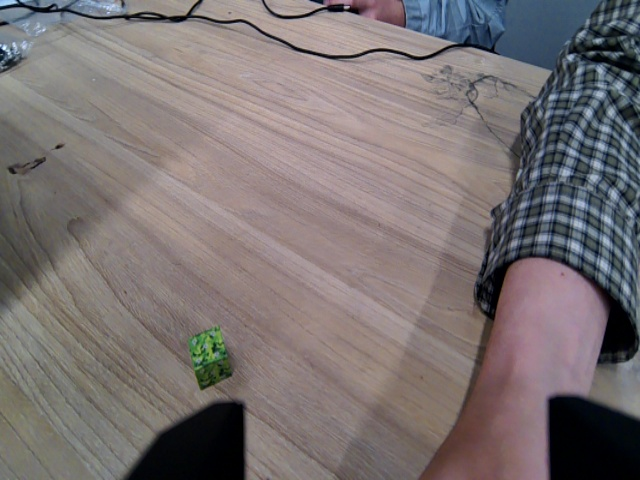grass: (182, 321, 236, 392)
